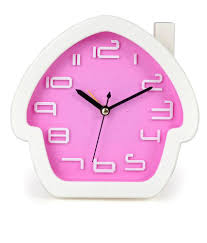alarm_clock: (9, 12, 198, 196), (9, 17, 198, 196), (17, 17, 198, 196)
